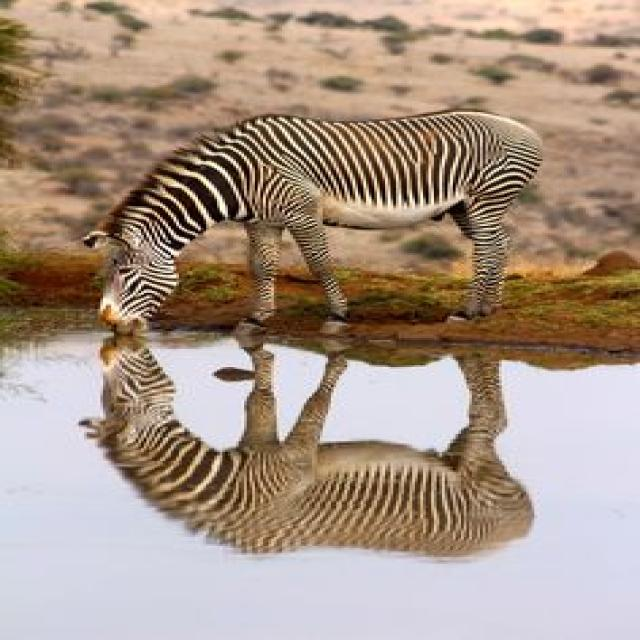Herbivorous: (84, 110, 542, 338), (84, 334, 534, 560)
